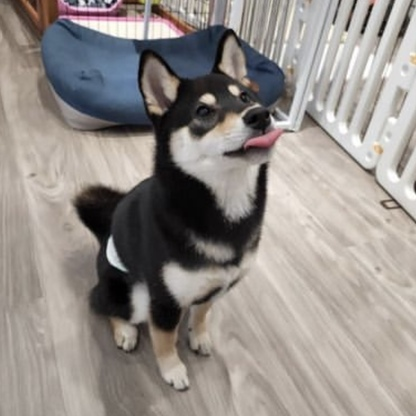shiba: (58, 24, 280, 399)
